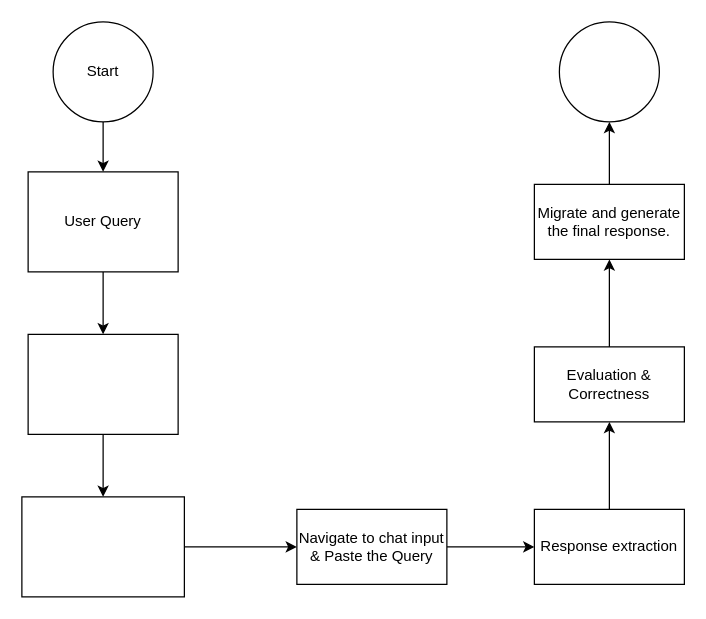
The diagram is 706 pixels wide and 619 high, and some of its shapes have lost their labels. The shapes that lost their labels are listed below. From the top down, each one's centre as x and y in pixels, then its label:
(608,71): end
(102,383): Browser Automation
(102,546): Open LLM Websites (ChatGPT, Grok, Deepseek, Mistral)
